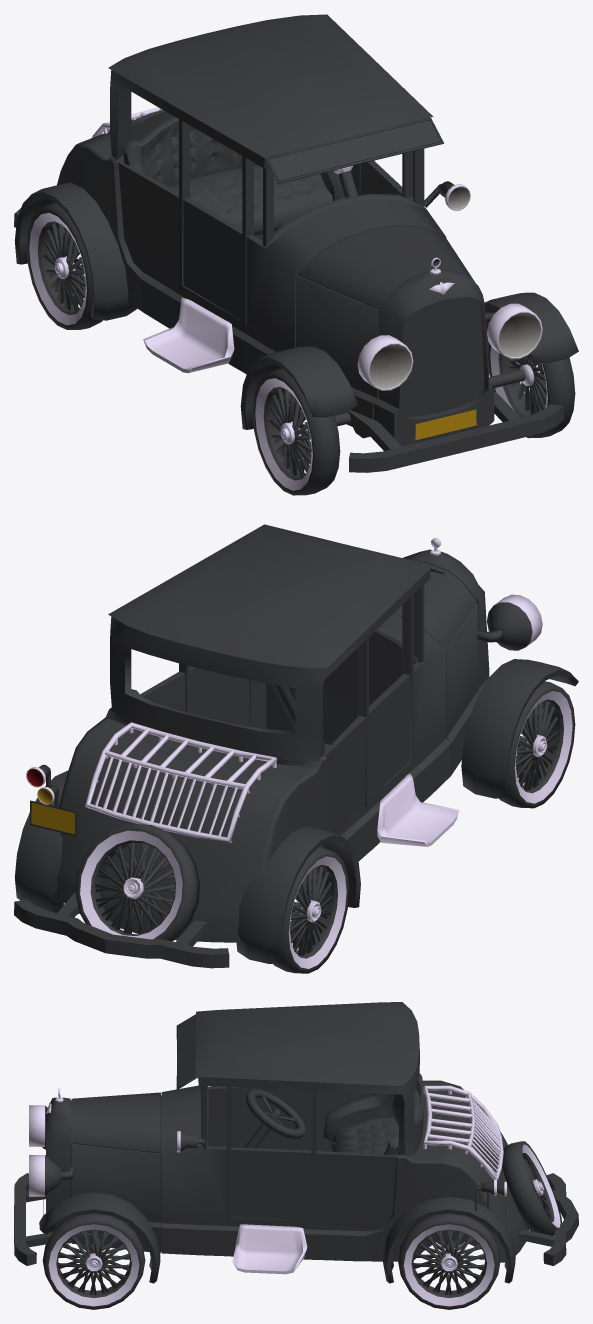
The model's file is Car_5.fbx.
3 views of the same model, one above another, from view 1: azimuth 30°, elevation 25°; view 2: azimuth 150°, elevation 25°; view 3: azimuth 270°, elevation 25° (orthographic). The views are drawn at different scales.
Visible parts, largest first — view 1: 5_Car_BaseModel, 5_Car_FrontRight, 5_Car_BackRight, 5_Car_FrontLeft; view 2: 5_Car_BaseModel, 5_Car_BackupWheel, 5_Car_FrontRight, 5_Car_BackRight; view 3: 5_Car_BaseModel, 5_Car_BackLeft, 5_Car_FrontLeft, 5_Car_BackupWheel.
Boxes of the visible parts, left/top/right/bottom form: 5_Car_BaseModel: left=14, top=14, right=578, bottom=472; 5_Car_FrontRight: left=252, top=368, right=340, bottom=495; 5_Car_BackRight: left=26, top=203, right=102, bottom=329; 5_Car_FrontLeft: left=487, top=342, right=575, bottom=438; 5_Car_BaseModel: left=14, top=524, right=578, bottom=968; 5_Car_BackupWheel: left=76, top=824, right=199, bottom=941; 5_Car_FrontRight: left=499, top=681, right=575, bottom=808; 5_Car_BackRight: left=273, top=846, right=349, bottom=973; 5_Car_BaseModel: left=14, top=1002, right=578, bottom=1283; 5_Car_BackLeft: left=398, top=1213, right=500, bottom=1309; 5_Car_FrontLeft: left=42, top=1213, right=145, bottom=1309; 5_Car_BackupWheel: left=502, top=1141, right=561, bottom=1235.
Size of the model in its own units: 216 by 211 by 477.
